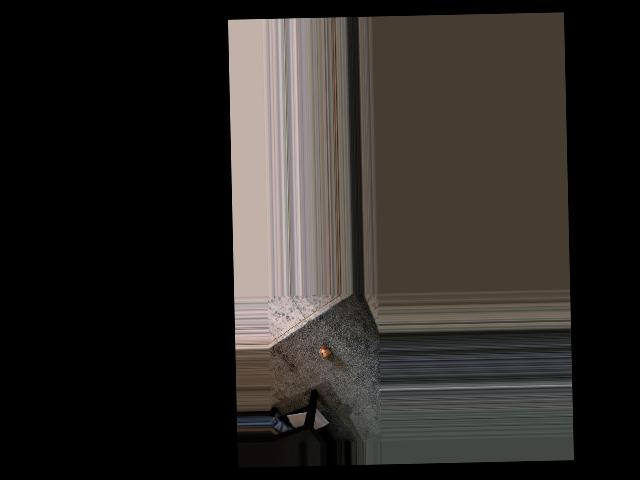onion: (318, 343, 335, 359)
